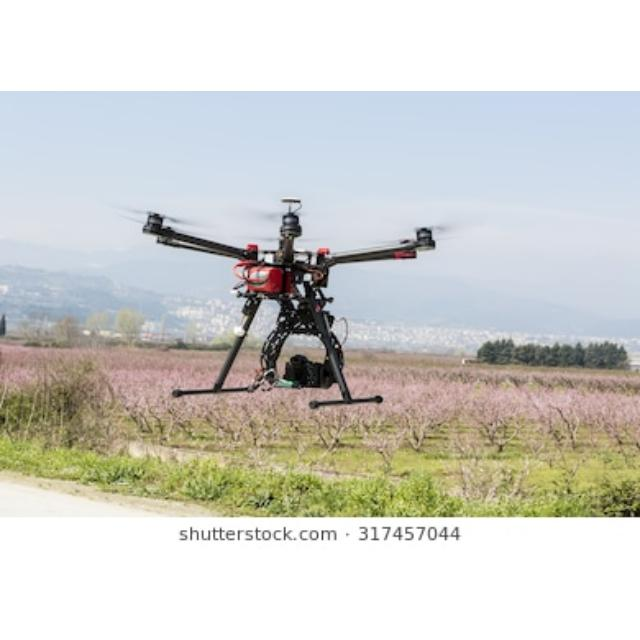Drones: (138, 196, 452, 404)
